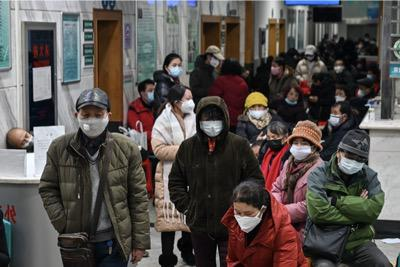mask_weared_incorrect: (285, 91, 299, 106)
with_mask: (76, 110, 109, 139), (232, 207, 261, 234), (338, 153, 366, 176), (198, 115, 224, 139), (289, 138, 312, 163), (265, 135, 284, 154), (19, 131, 34, 154), (248, 103, 265, 121), (179, 96, 195, 115), (328, 109, 342, 127), (169, 62, 183, 78), (333, 60, 345, 74), (145, 87, 154, 105), (208, 56, 220, 68), (358, 83, 366, 99), (270, 63, 279, 76), (335, 91, 344, 103), (366, 70, 374, 82), (311, 81, 320, 91), (305, 53, 313, 62)
